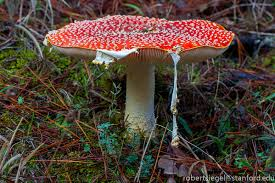Amanita muscaria: (38, 12, 241, 131)
